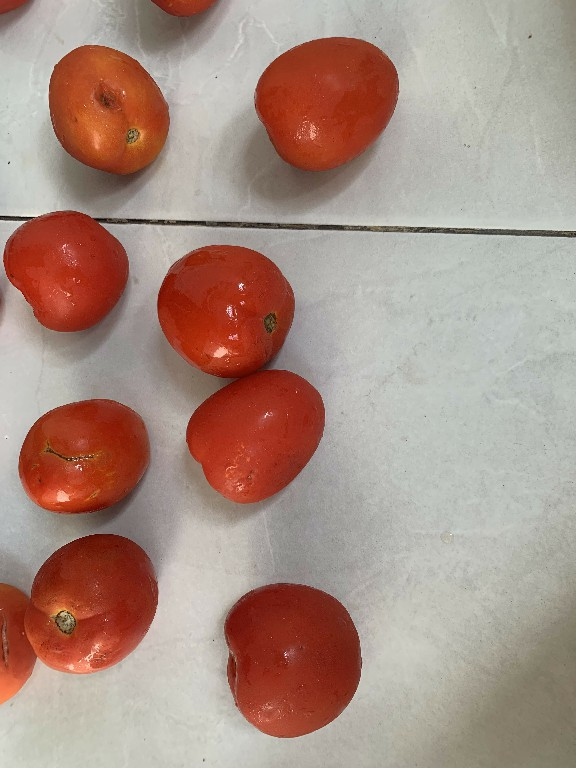NG: (42, 40, 173, 173), (10, 397, 151, 520)
OK: (218, 578, 371, 746), (243, 28, 405, 172), (21, 529, 161, 679), (183, 365, 326, 508), (154, 241, 298, 371), (4, 206, 132, 339)
